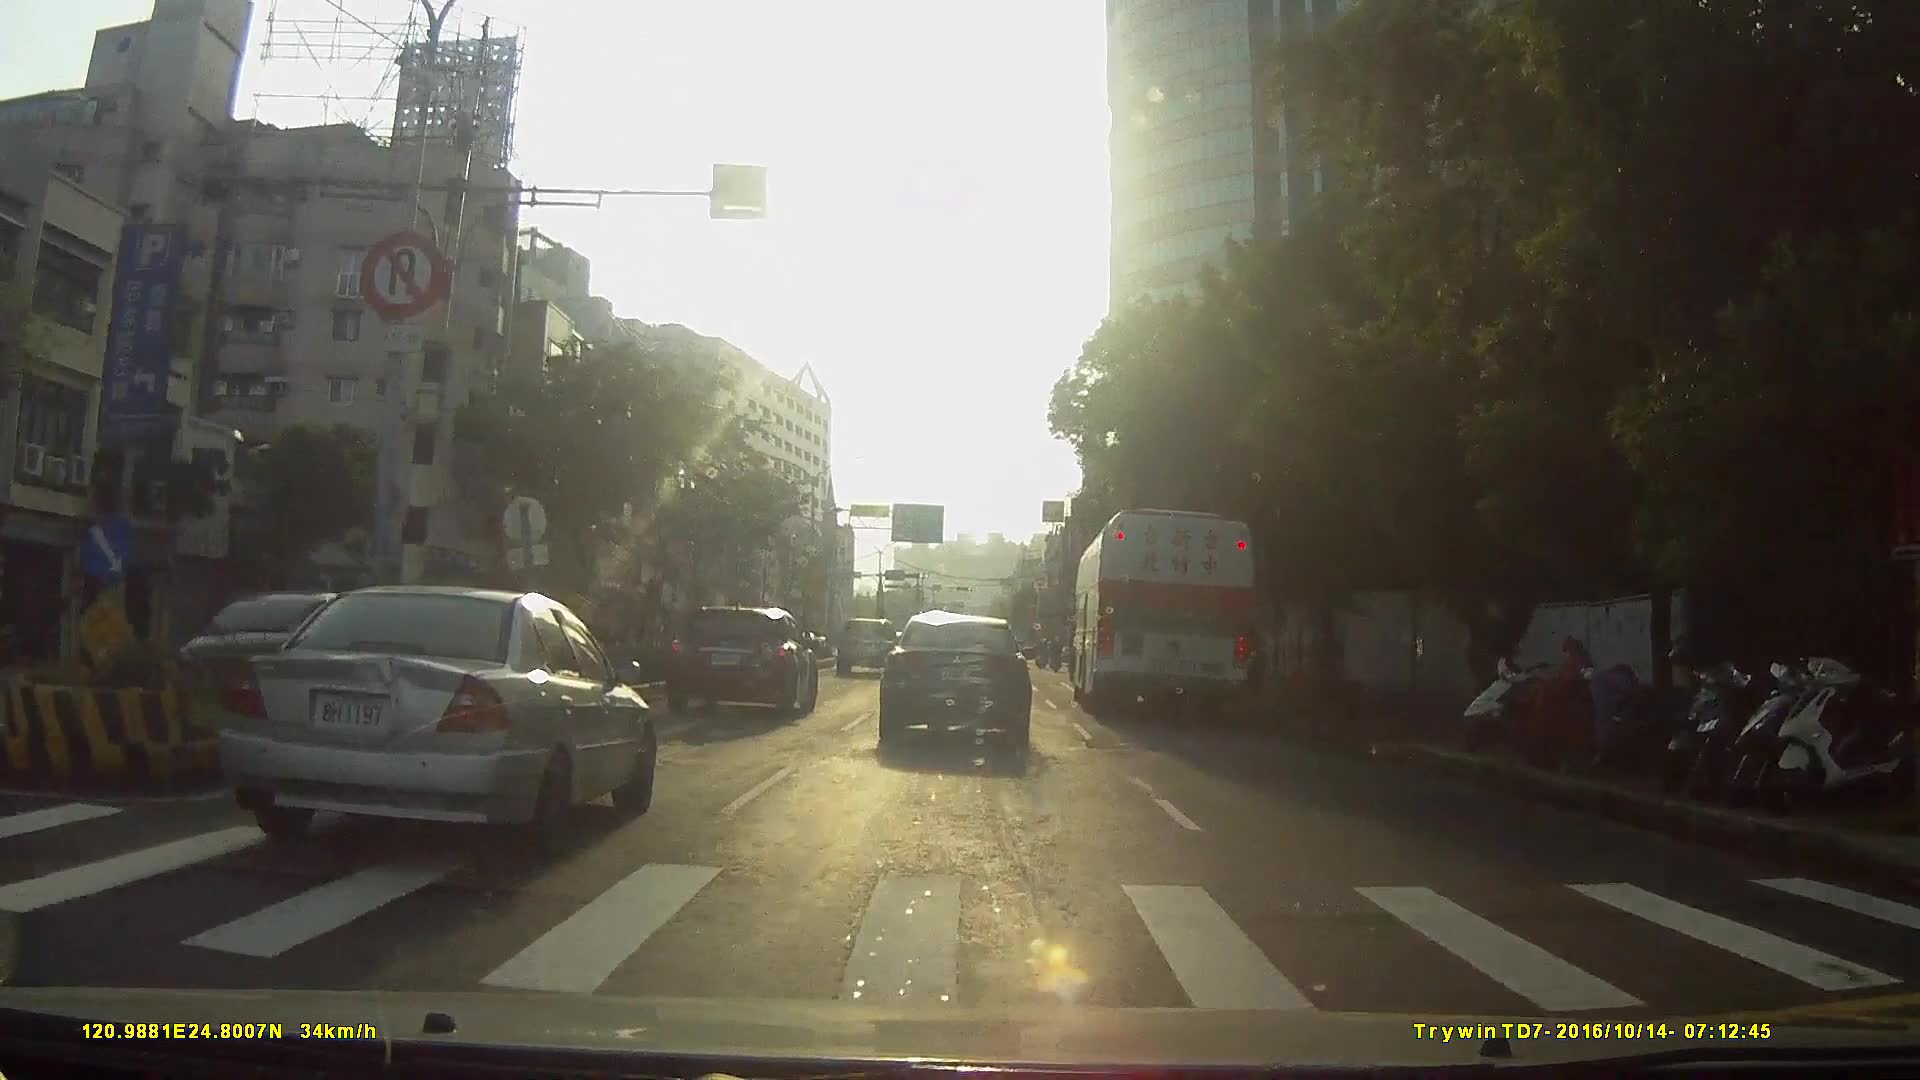vehicle: (208, 578, 651, 858), (1072, 500, 1261, 715), (124, 587, 389, 724), (876, 611, 1033, 753), (665, 601, 818, 720), (833, 613, 899, 674)
